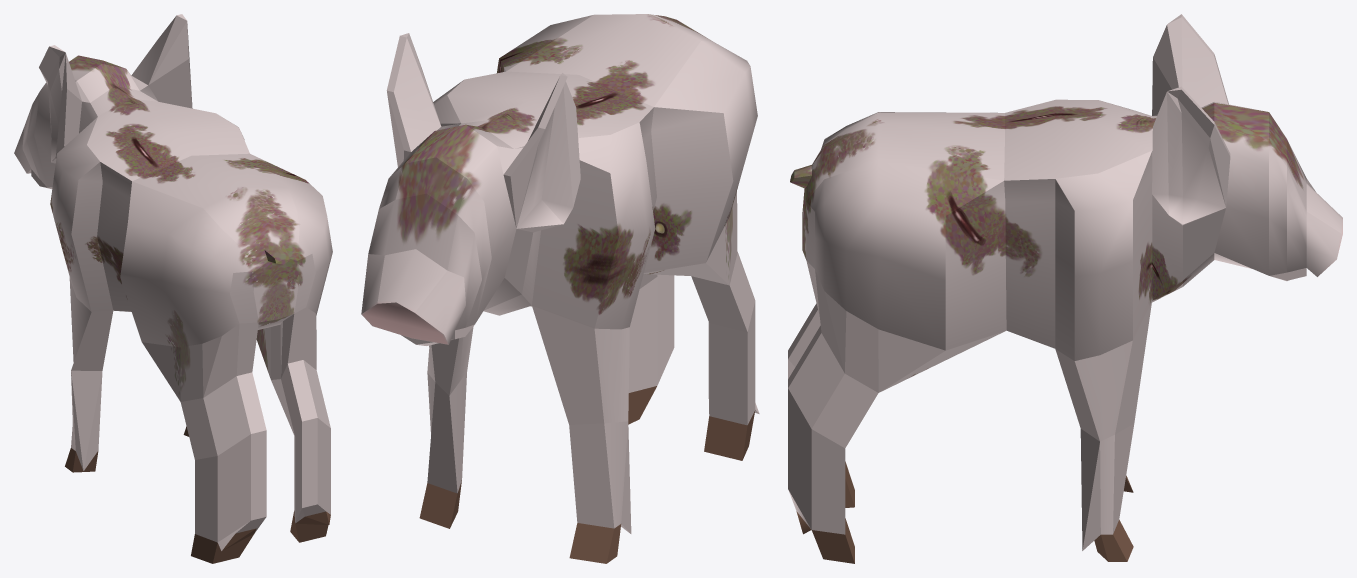
The model's file is NPCPiglet_2.fbx.
3 views of the same model, side by side, from view 1: azimuth 30°, elevation 25°; view 2: azimuth 150°, elevation 25°; view 3: azimuth 270°, elevation 25° (orthographic). The views are drawn at different scales.
Parts seen in each view (by area): view 1: Baby_pig_NPC_2; view 2: Baby_pig_NPC_2; view 3: Baby_pig_NPC_2.
Boxes of the visible parts, <box> form: Baby_pig_NPC_2: <box>14,14,332,563</box>; Baby_pig_NPC_2: <box>361,14,759,563</box>; Baby_pig_NPC_2: <box>788,14,1342,563</box>.
Bounding box in the file's own units: 14.68 × 29.58 × 31.29.
1 material, 1 textured.
